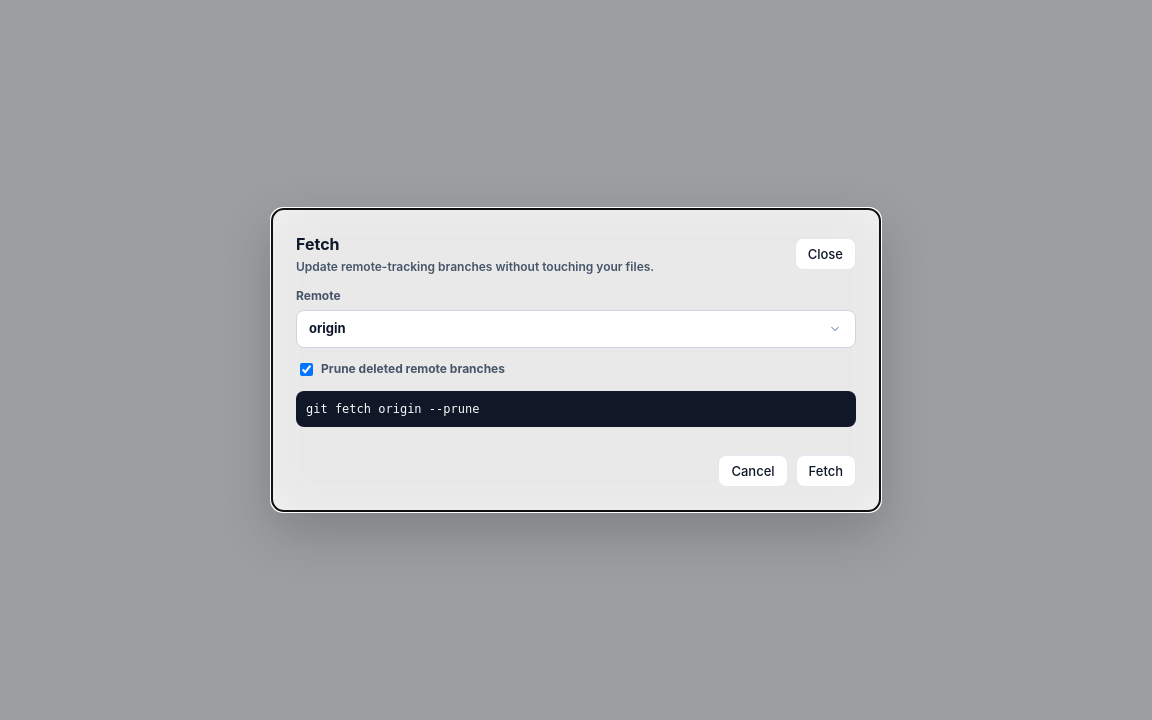
Test case: FetchDialog › surfaces fetch errors without closing
The width and height of the screenshot is (1152, 720).
expect the text "git fetch origin --prune" is shown: met, box left=296, top=390, right=856, bottom=427
Click the button "Fetch" at (826, 471), box left=796, top=455, right=856, bottom=488
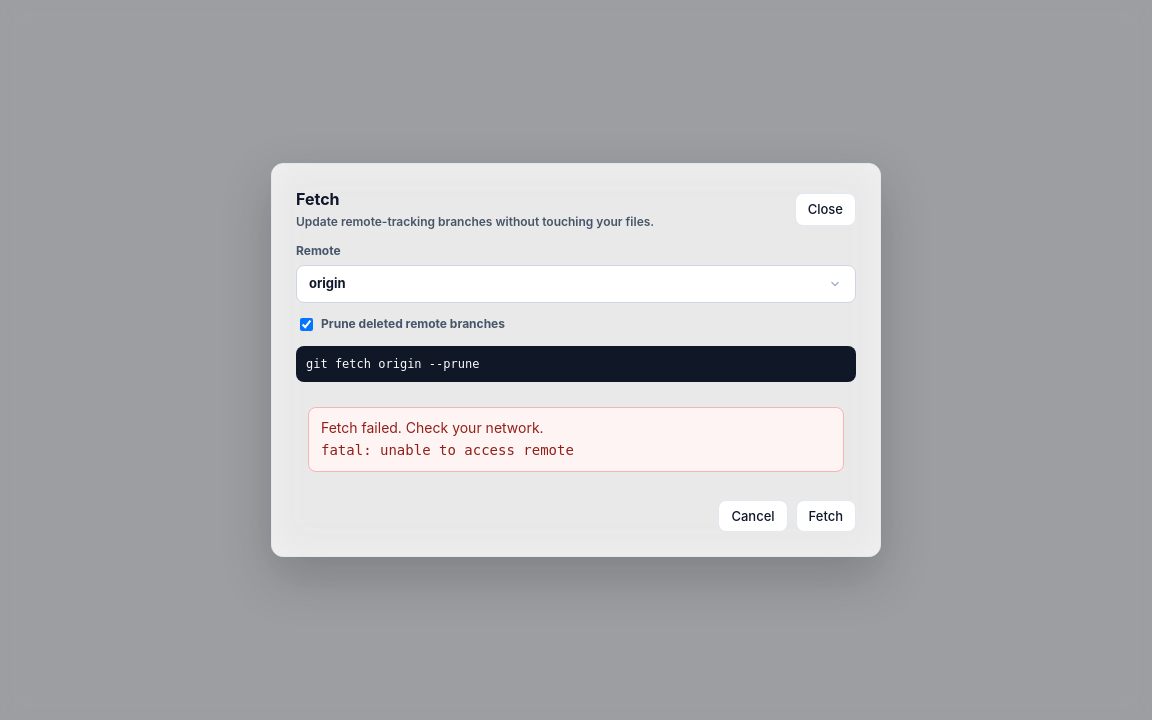
expect the message shows "Fetch failed.": met, box left=321, top=419, right=402, bottom=436
